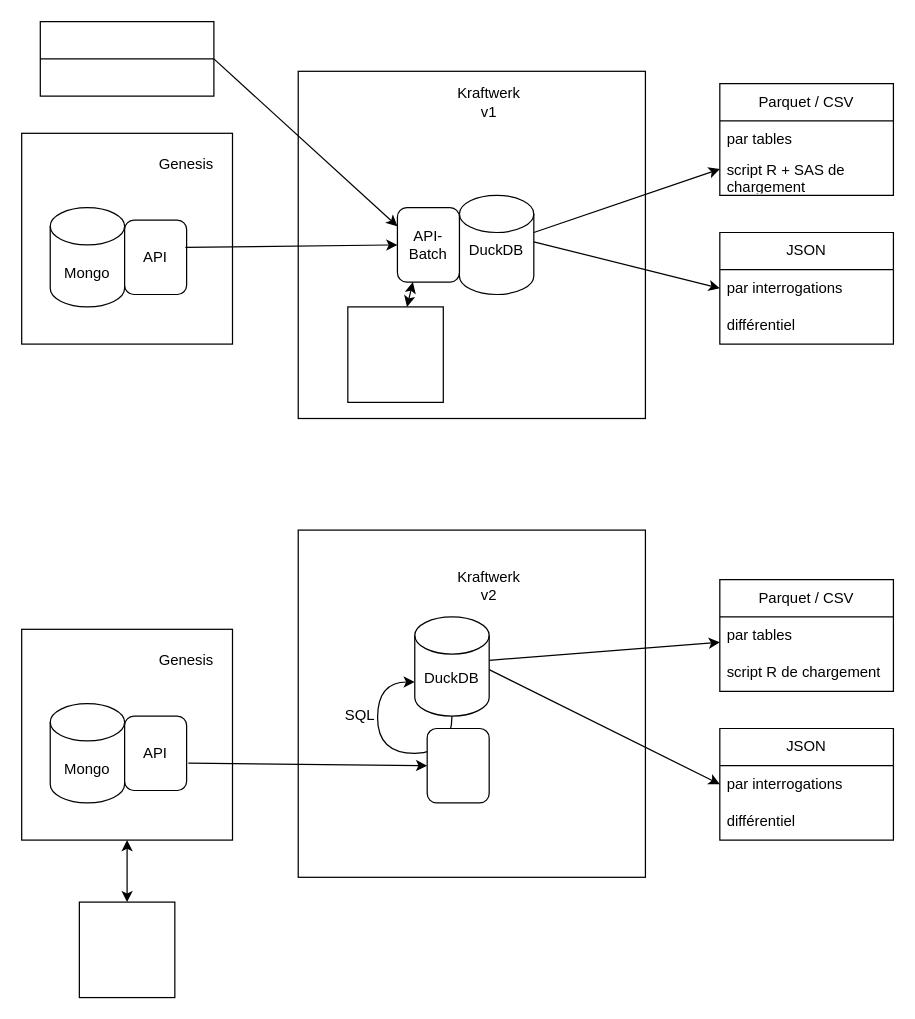
This 915x1019 diagram has some shape labels left out. The shapes that lost their labels are listed below. From the top down, each one's centre as x and y in pixels, then its label:
point (126, 58): Fichiers data
point (395, 354): VTL Trevas Java
point (457, 765): Batch
point (126, 949): VTL Lunatic Trevas JS
